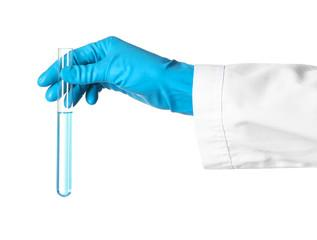Test tube: (48, 24, 77, 200)
